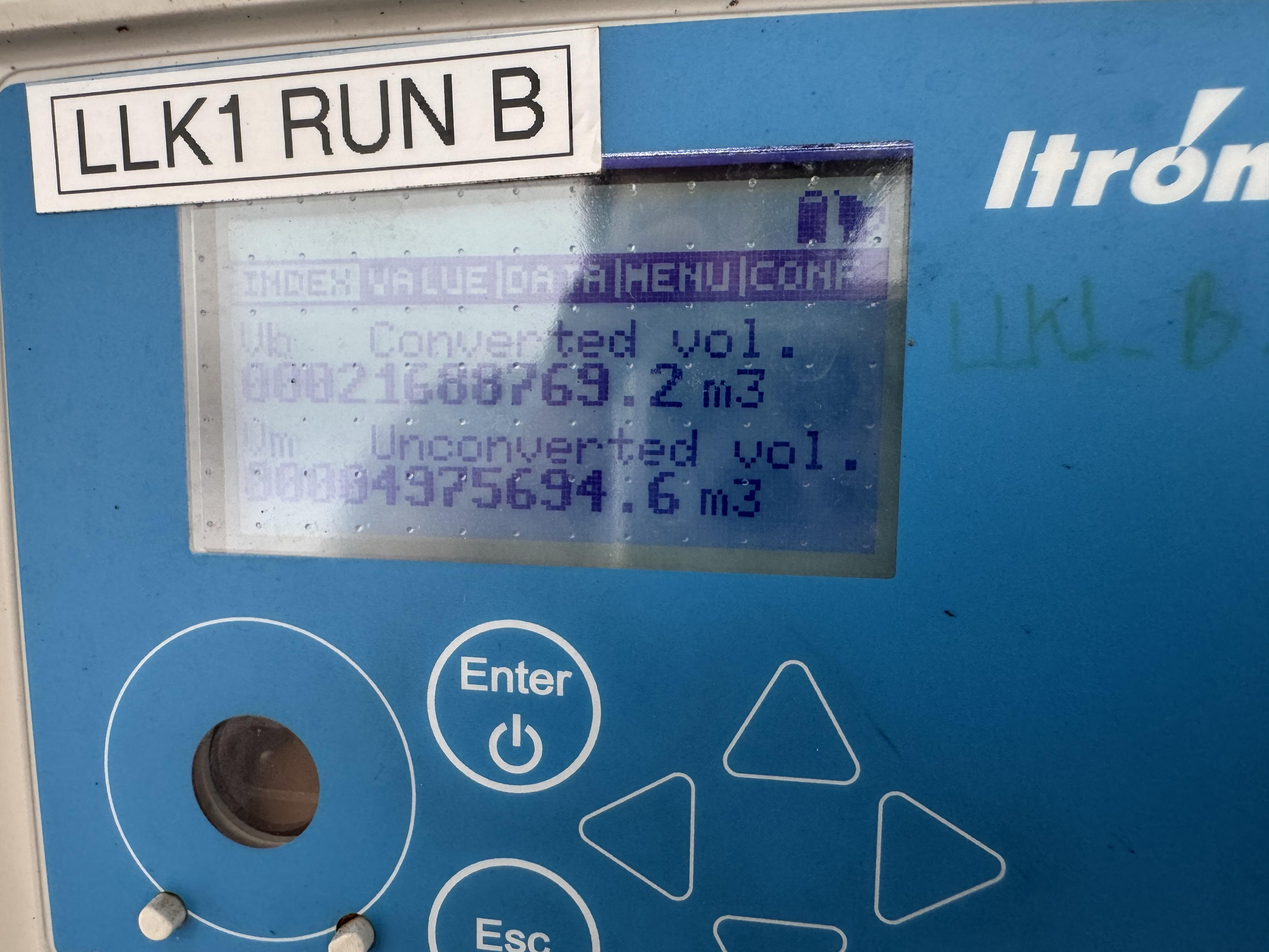digital_screen: (167, 117, 912, 576)
